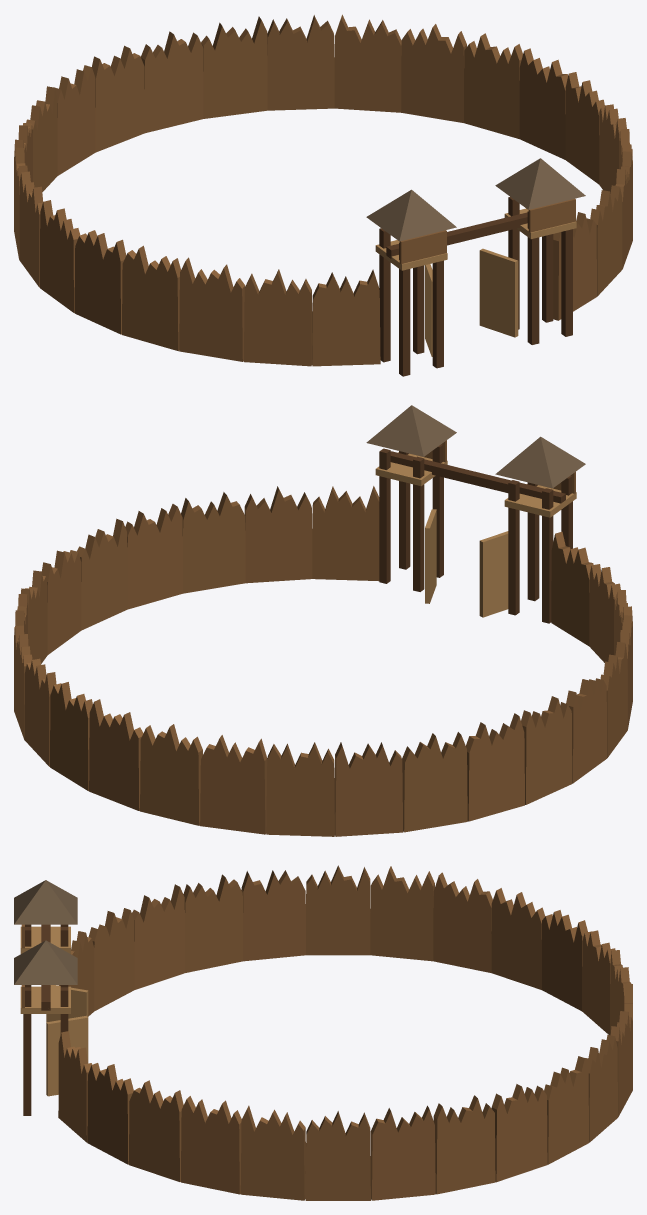
The model's file is castle_palisade_small.glb.
3 renders of one model, top to bottom at view 1: azimuth 30°, elevation 25°; view 2: azimuth 150°, elevation 25°; view 3: azimuth 270°, elevation 25°, orthographic. The views are drawn at different scales.
Parts seen in each view (by area): view 1: castle_palisade_small; view 2: castle_palisade_small; view 3: castle_palisade_small.
Boxes of the visible parts, x1=… form: castle_palisade_small: x1=14, y1=14, x2=632, y2=376; castle_palisade_small: x1=14, y1=405, x2=632, y2=836; castle_palisade_small: x1=14, y1=865, x2=632, y2=1200.
Size of the model in its own units: 22.18 by 6.9 by 23.29.
